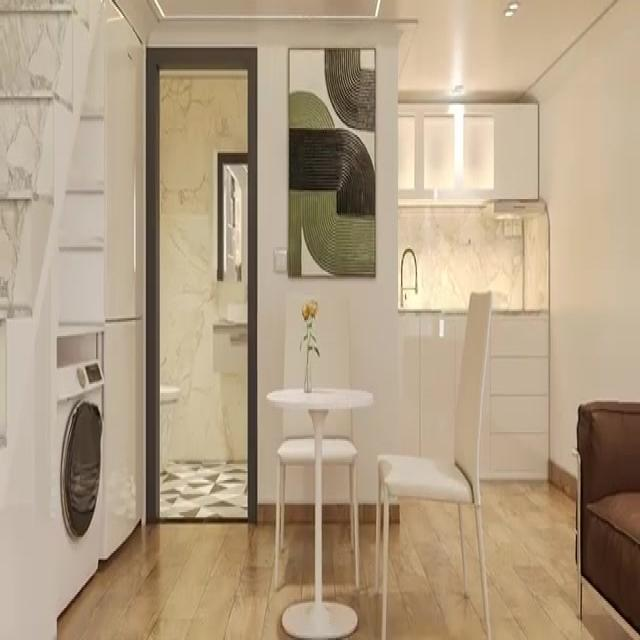obstacle: (374, 290, 493, 638), (265, 386, 373, 638), (572, 398, 639, 638)
